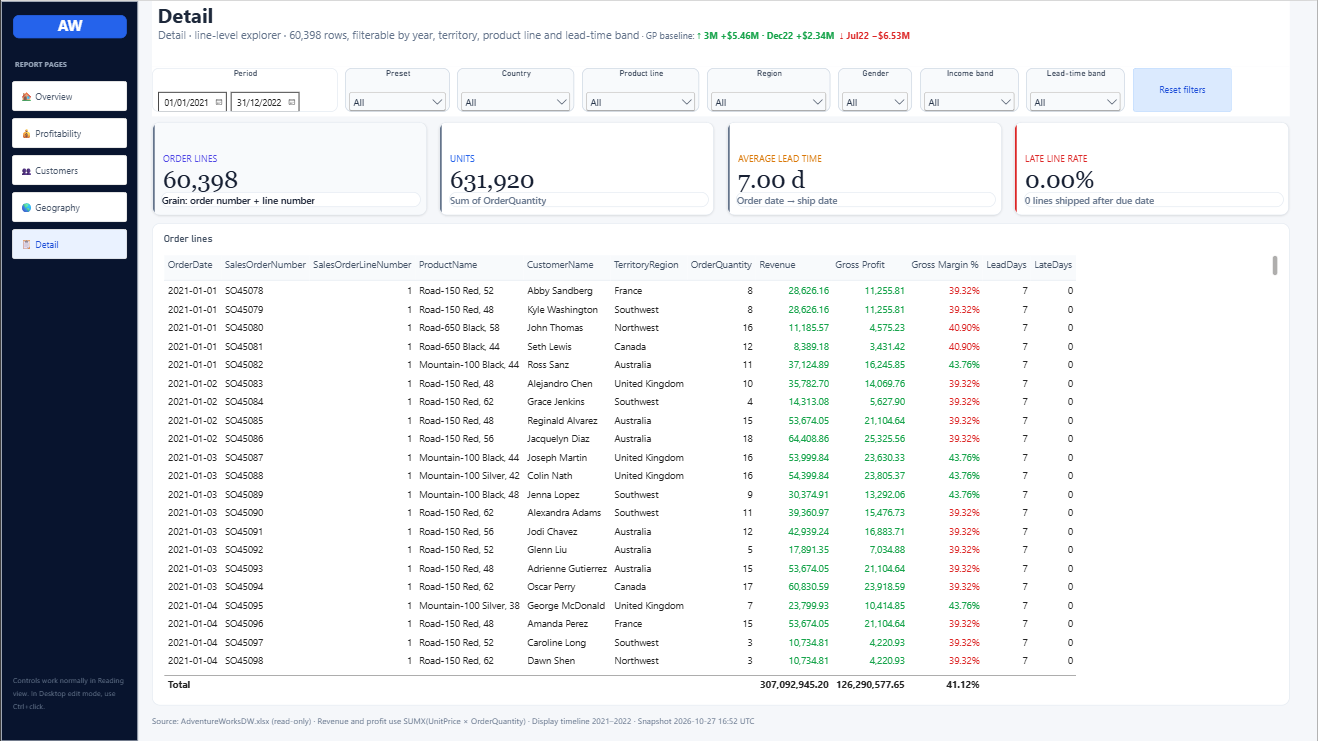

This screenshot's page, from the dashboard's own definition file:
{"tool":"powerbi","page":{"name":"Detail","canvas":[1920,1080],"ordinal":4},"visuals":[{"type":"textbox","box":[220,96,1660,72],"z":0},{"type":"textbox","box":[220,1040,1660,32],"z":1000},{"type":"textbox","box":[220,0,1660,96],"z":2000},{"type":"textbox","box":[0,0,200,1080],"z":3000},{"type":"cardVisual","fields":{"Data":["FactInternetSales.KPI Units"]},"box":[639.5,176,401.5,136],"z":4000},{"type":"cardVisual","fields":{"Data":["FactInternetSales.KPI Lines"]},"box":[220,176,401.5,136],"z":5000},{"type":"tableEx","title":"Order lines","fields":{"Values":["FactInternetSales.OrderDate","FactInternetSales.SalesOrderNumber","FactInternetSales.SalesOrderLineNumber","DimProduct.ProductName","DimCustomer.CustomerName","DimSalesTerritory.TerritoryRegion","FactInternetSales.OrderQuantity","FactInternetSales.Revenue","FactInternetSales.Gross Profit","FactInternetSales.Gross Margin %","FactInternetSales.LeadDays","FactInternetSales.LateDays"]},"box":[220,324,1660,704],"z":6000},{"type":"cardVisual","fields":{"Data":["FactInternetSales.KPI Late Line Rate"]},"box":[1478.5,176,401.5,136],"z":7000},{"type":"cardVisual","fields":{"Data":["FactInternetSales.KPI Avg Lead"]},"box":[1059,176,401.5,136],"z":8000},{"type":"textbox","box":[17.5,980.4,164.9,59.8],"z":9000},{"type":"textbox","box":[20,82,160,22],"z":10000},{"type":"textbox","box":[17.5,20.4,166.3,33.6],"z":11000},{"type":"slicer","title":"Product line","fields":{"Values":["DimProduct.ProductLine"]},"box":[847.9,98,171.4,64],"z":12000},{"type":"slicer","title":"Income band","fields":{"Values":["DimCustomer.IncomeBand"]},"box":[1340.5,98,144.3,64],"z":13000},{"type":"slicer","title":"Region","fields":{"Values":["DimSalesTerritory.TerritoryGroup"]},"box":[1030.2,98,180.4,64],"z":14000},{"type":"slicer","title":"Period","fields":{"Values":["DimDate.Date"]},"box":[220,98,270.6,64],"z":15000},{"type":"slicer","title":"Preset","fields":{"Values":["Period Preset.Preset"]},"box":[501.5,98,153.4,64],"z":16000},{"type":"slicer","title":"Country","fields":{"Values":["DimCustomer.Customer Country"]},"box":[665.7,98,171.4,64],"z":17000},{"type":"slicer","title":"Lead-time band","fields":{"Values":["FactInternetSales.LeadBucket"]},"box":[1495.7,98,144.3,64],"z":18000},{"type":"actionButton","box":[1650.8,98,144.3,64],"z":19000},{"type":"slicer","title":"Gender","fields":{"Values":["DimCustomer.Gender"]},"box":[1221.4,98,108.3,64],"z":20000},{"type":"actionButton","box":[16,278,168,44],"z":21000},{"type":"actionButton","box":[16,170,168,44],"z":22000},{"type":"actionButton","box":[16,116,168,44],"z":23000},{"type":"actionButton","box":[16,224,168,44],"z":24000},{"type":"actionButton","box":[16,332,168,44],"z":25000},{"type":"cardVisual","fields":{"Data":["FactInternetSales.Sub Detail Lines"]},"box":[233.5,278,378.9,22],"z":26000},{"type":"cardVisual","fields":{"Data":["FactInternetSales.Sub Detail Late"]},"box":[1492.1,278,378.9,22],"z":27000},{"type":"cardVisual","fields":{"Data":["FactInternetSales.Sub Detail Units"]},"box":[653,278,378.9,22],"z":28000},{"type":"cardVisual","fields":{"Data":["FactInternetSales.Sub Detail Avg Lead"]},"box":[1072.5,278,378.9,22],"z":29000}]}

Visuals, with their boxes on the page's 1920x1080 design canvas (x1, y1, x2, y2). These are canvas units, not pixel positions in the 1318x741 screenshot, which may show the page scaled, cropped or inside an application window:
textbox: bbox=[220, 96, 1880, 168]
textbox: bbox=[220, 1040, 1880, 1072]
textbox: bbox=[220, 0, 1880, 96]
textbox: bbox=[0, 0, 200, 1080]
cardVisual - FactInternetSales.KPI Units: bbox=[640, 176, 1041, 312]
cardVisual - FactInternetSales.KPI Lines: bbox=[220, 176, 622, 312]
"Order lines" tableEx: bbox=[220, 324, 1880, 1028]
cardVisual - FactInternetSales.KPI Late Line Rate: bbox=[1478, 176, 1880, 312]
cardVisual - FactInternetSales.KPI Avg Lead: bbox=[1059, 176, 1460, 312]
textbox: bbox=[18, 980, 182, 1040]
textbox: bbox=[20, 82, 180, 104]
textbox: bbox=[18, 20, 184, 54]
"Product line" slicer: bbox=[848, 98, 1019, 162]
"Income band" slicer: bbox=[1340, 98, 1485, 162]
"Region" slicer: bbox=[1030, 98, 1211, 162]
"Period" slicer: bbox=[220, 98, 491, 162]
"Preset" slicer: bbox=[502, 98, 655, 162]
"Country" slicer: bbox=[666, 98, 837, 162]
"Lead-time band" slicer: bbox=[1496, 98, 1640, 162]
actionButton: bbox=[1651, 98, 1795, 162]
"Gender" slicer: bbox=[1221, 98, 1330, 162]
actionButton: bbox=[16, 278, 184, 322]
actionButton: bbox=[16, 170, 184, 214]
actionButton: bbox=[16, 116, 184, 160]
actionButton: bbox=[16, 224, 184, 268]
actionButton: bbox=[16, 332, 184, 376]
cardVisual - FactInternetSales.Sub Detail Lines: bbox=[234, 278, 612, 300]
cardVisual - FactInternetSales.Sub Detail Late: bbox=[1492, 278, 1871, 300]
cardVisual - FactInternetSales.Sub Detail Units: bbox=[653, 278, 1032, 300]
cardVisual - FactInternetSales.Sub Detail Avg Lead: bbox=[1072, 278, 1451, 300]
